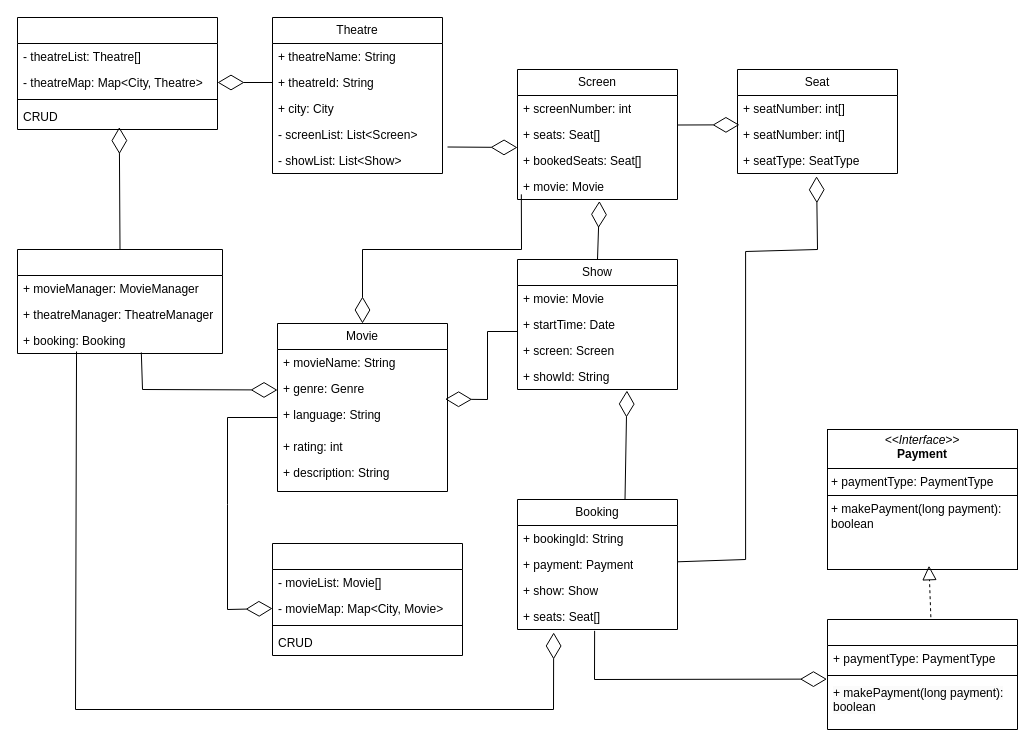
The diagram is 1035 pixels wide and 753 high, and some of its shapes have lost their labels. Here are the shapes that lost their labels. From the top down, the box of each, then its label:
(16, 16, 218, 130): ThreatreManager
(16, 248, 222, 354): MovieBookingSystem
(272, 542, 462, 656): MovieManger
(826, 618, 1018, 730): UPIPayment
